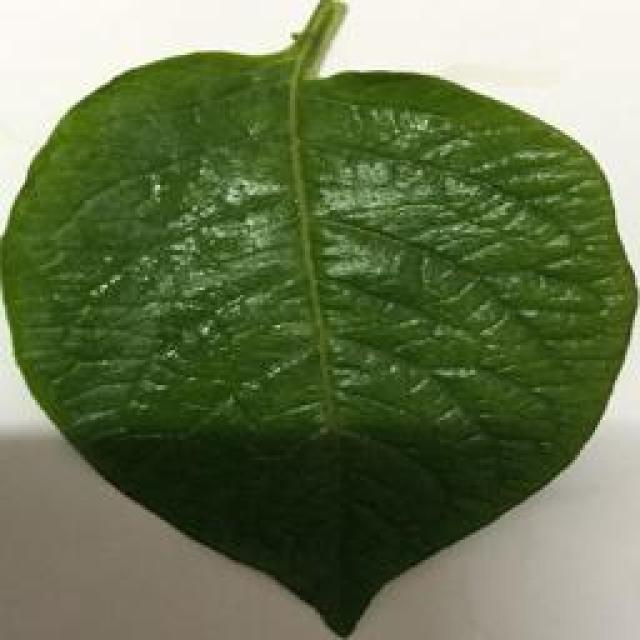Potato_Healthy: (4, 9, 634, 632)
